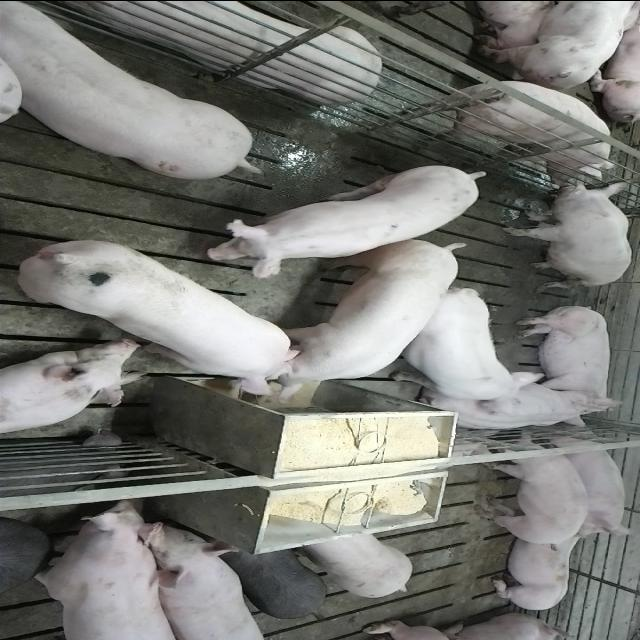Feeding: (15, 236, 307, 400), (260, 233, 471, 400)
Lateral_lying: (512, 302, 626, 418)
Sitting: (501, 178, 633, 286)
Standing: (0, 6, 258, 182), (200, 161, 488, 275), (23, 499, 193, 638), (406, 80, 614, 184), (135, 521, 274, 638), (466, 432, 588, 548), (483, 0, 640, 84), (212, 546, 328, 618), (297, 530, 413, 598), (0, 517, 48, 603)
Sternal_lying: (40, 0, 380, 100), (0, 343, 147, 437), (486, 526, 598, 612), (410, 381, 595, 433)
